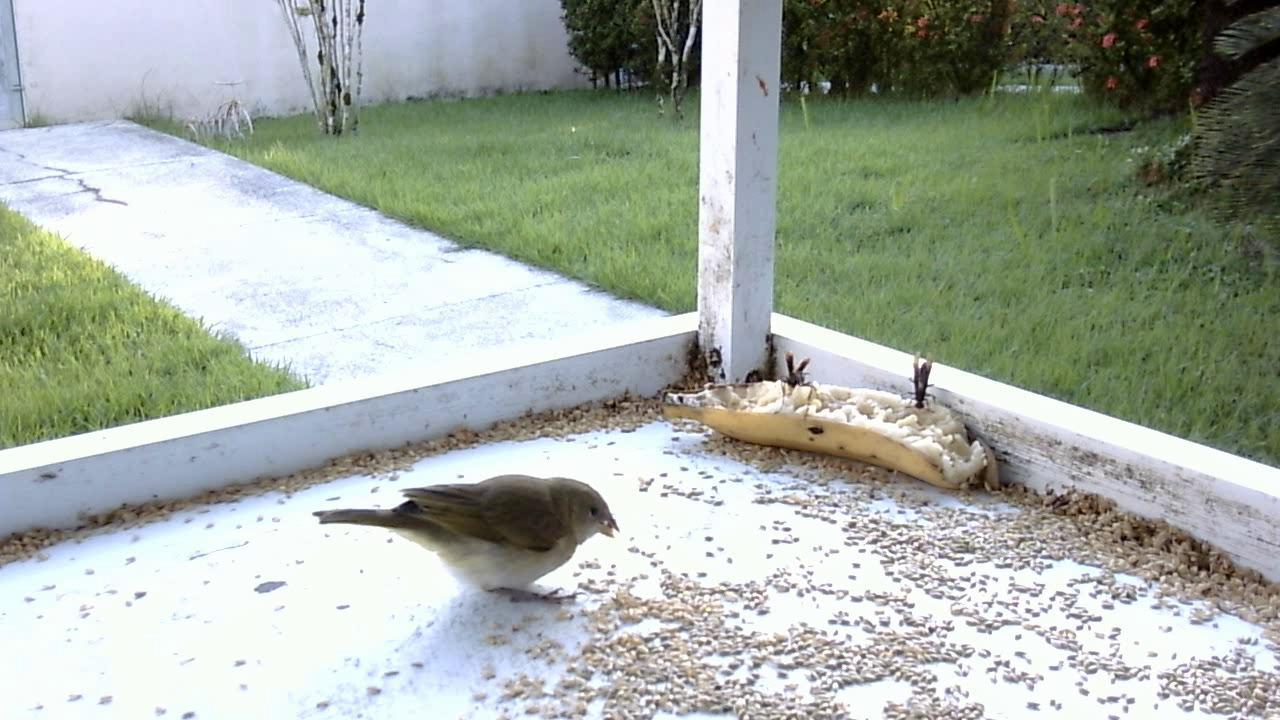canario_do_amazonas: (305, 464, 617, 616)
